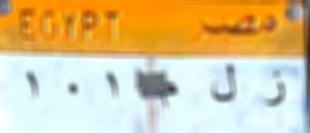0: (61, 77, 83, 99)
1: (21, 67, 46, 102), (103, 69, 124, 104)
laam: (209, 60, 241, 109)
meem: (157, 79, 180, 116)
zay: (254, 62, 292, 114)
